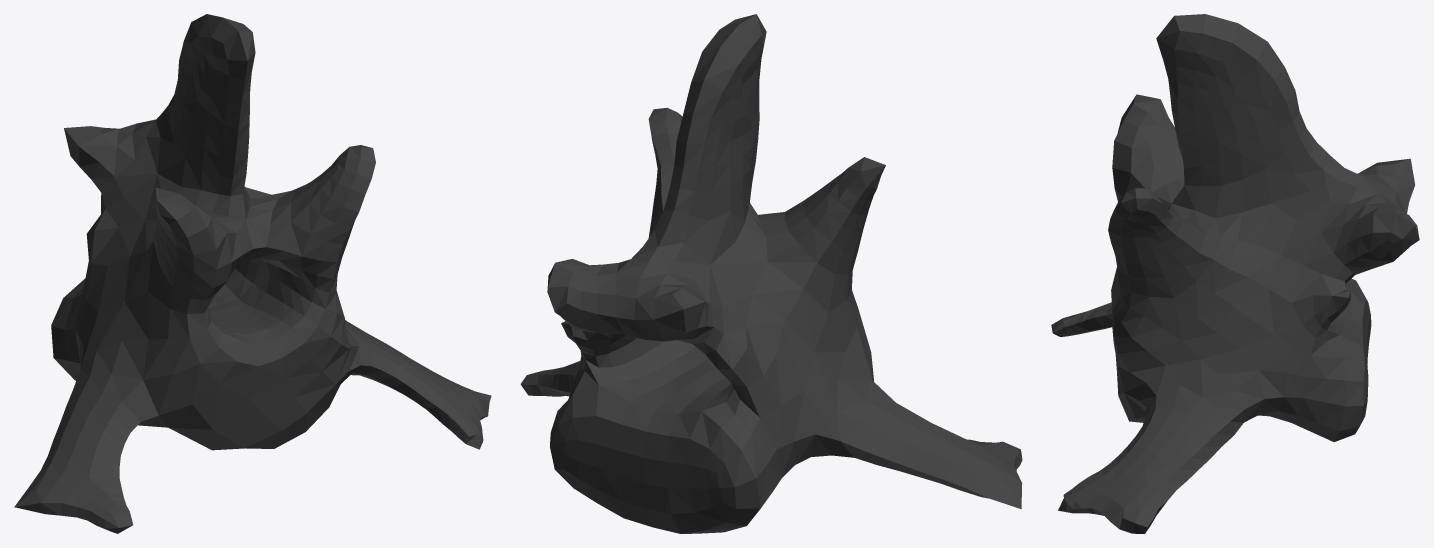
3 views of the same model, side by side, from view 1: azimuth 30°, elevation 25°; view 2: azimuth 150°, elevation 25°; view 3: azimuth 270°, elevation 25° (orthographic). The views are drawn at different scales.
Parts seen in each view (by area): view 1: L3; view 2: L3; view 3: L3.
Part boxes in pixels (x1,y1,x2,y2): L3: (14, 14, 491, 533); L3: (520, 14, 1022, 533); L3: (1051, 14, 1419, 533).
Size of the model in its own units: 3.69 by 3.18 by 2.57.
1 material, 1 textured.
